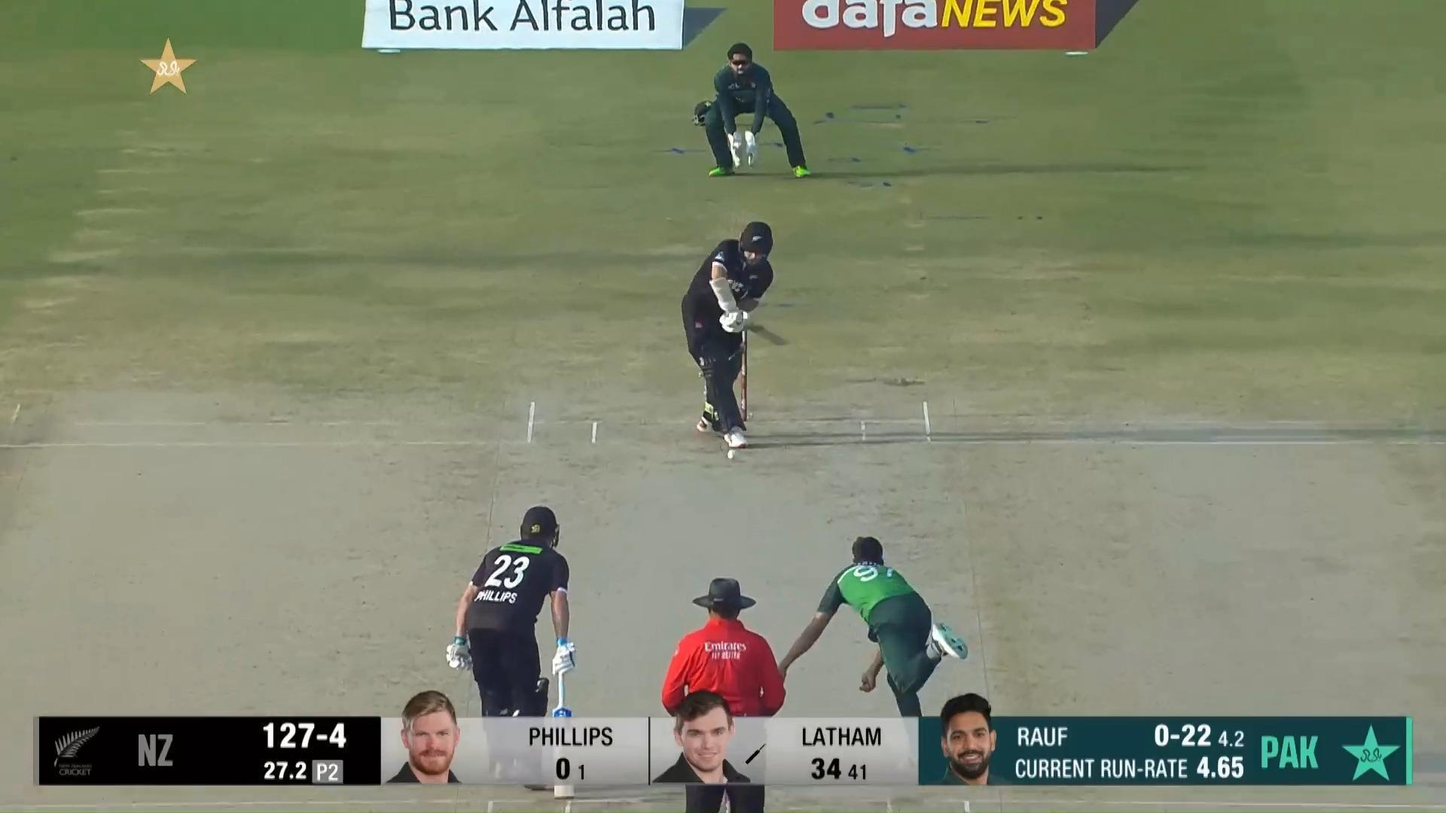BM 1: (681, 221, 790, 449)
BO: (774, 533, 971, 763)
